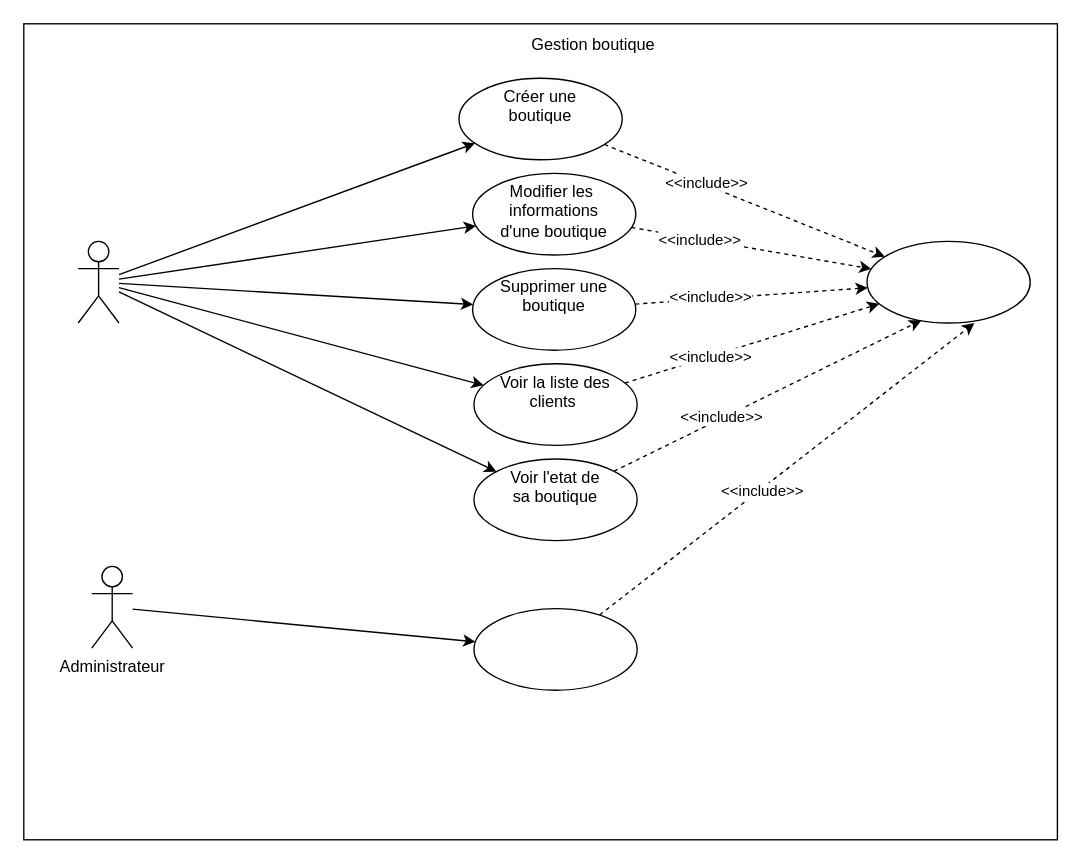
Image size: 1081x864. Some labels were removed from this diagram. The shapes that lost their labels are listed below. From the top down, each one's centre as x and y in pixels, then its label:
At (98,281): "Client_vendeur".
At (948,281): "S'authentifier".
At (555,648): "Mettre a jour l'etat d'une boutique".
